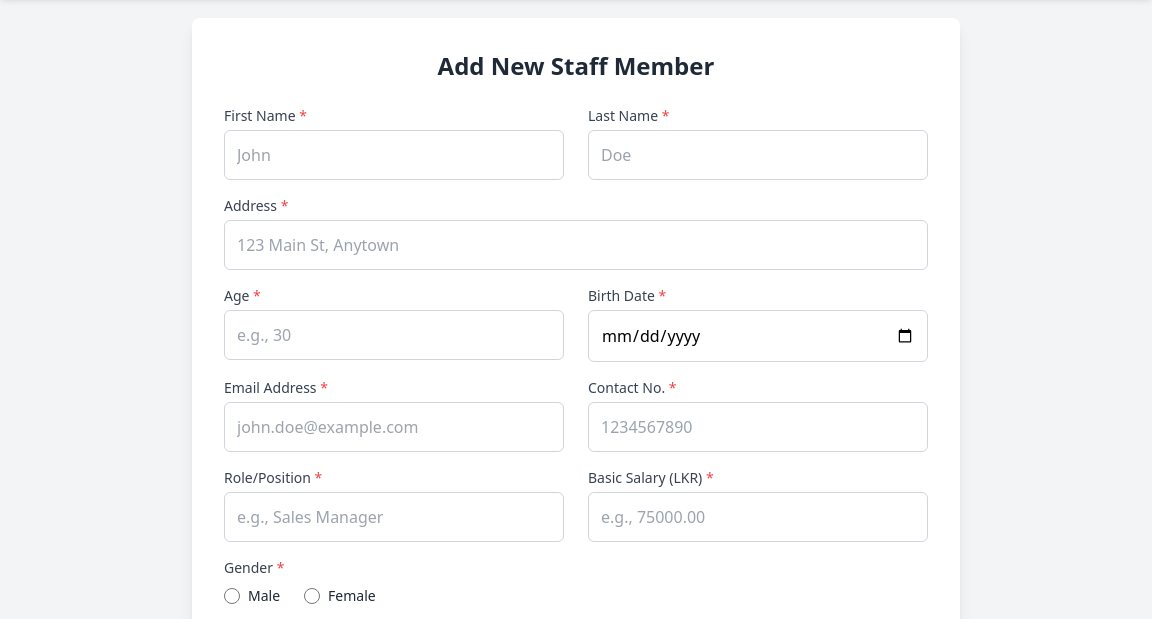
it: Staff Page - Add Staff Form › should display validation error for invalid email format
The width and height of the screenshot is (1152, 619).
In the field named "email": (394,427) [224,402,564,452], type "invalid-email@com"
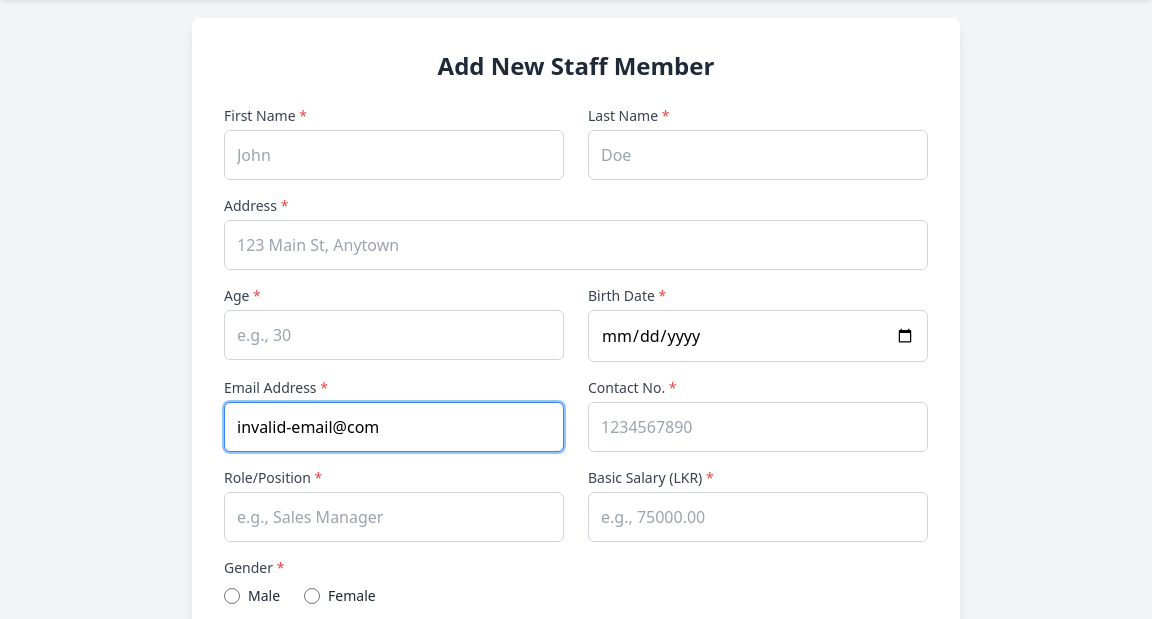
Scroll
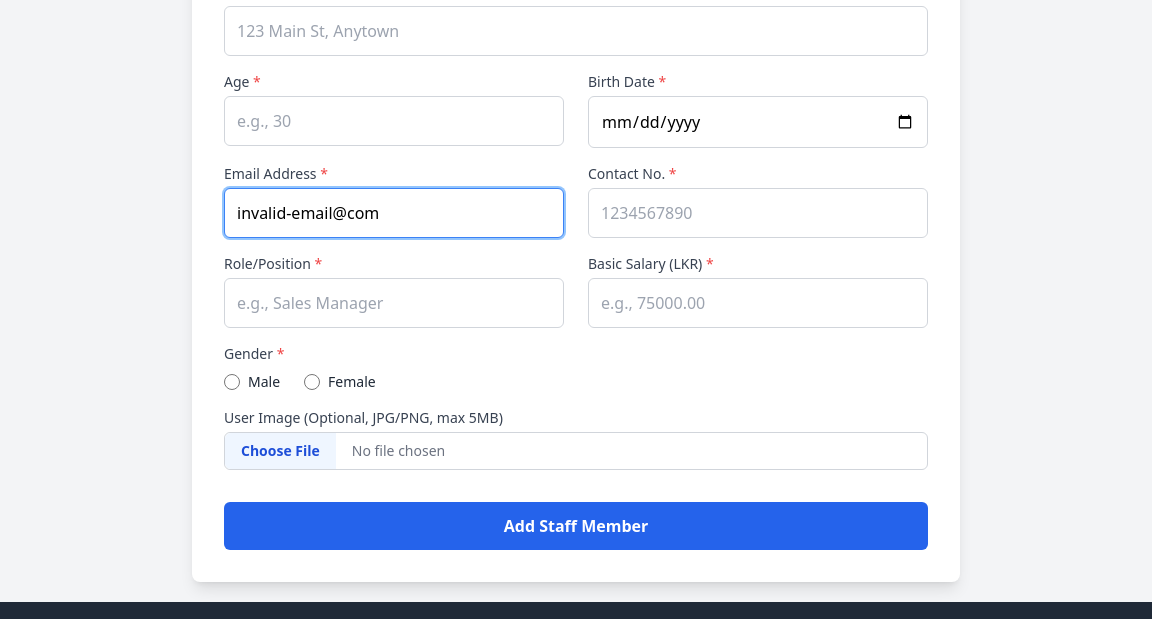
Click the submit button: (576,526) [224,502,928,550]
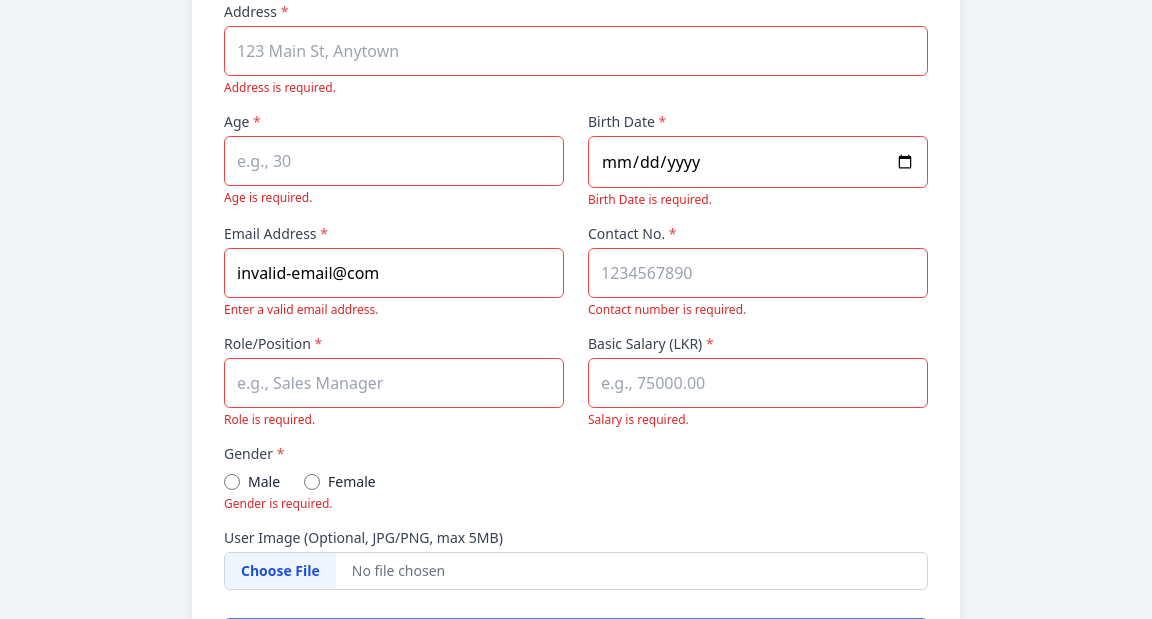
Result: the text "Enter a valid email address." is shown at [224,301,378,318]
